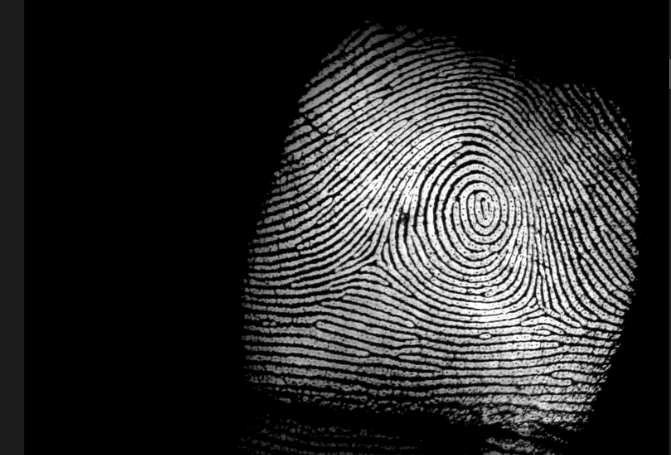nucelo: (464, 187, 495, 227)
verticilo: (521, 286, 565, 325), (359, 240, 392, 273)
